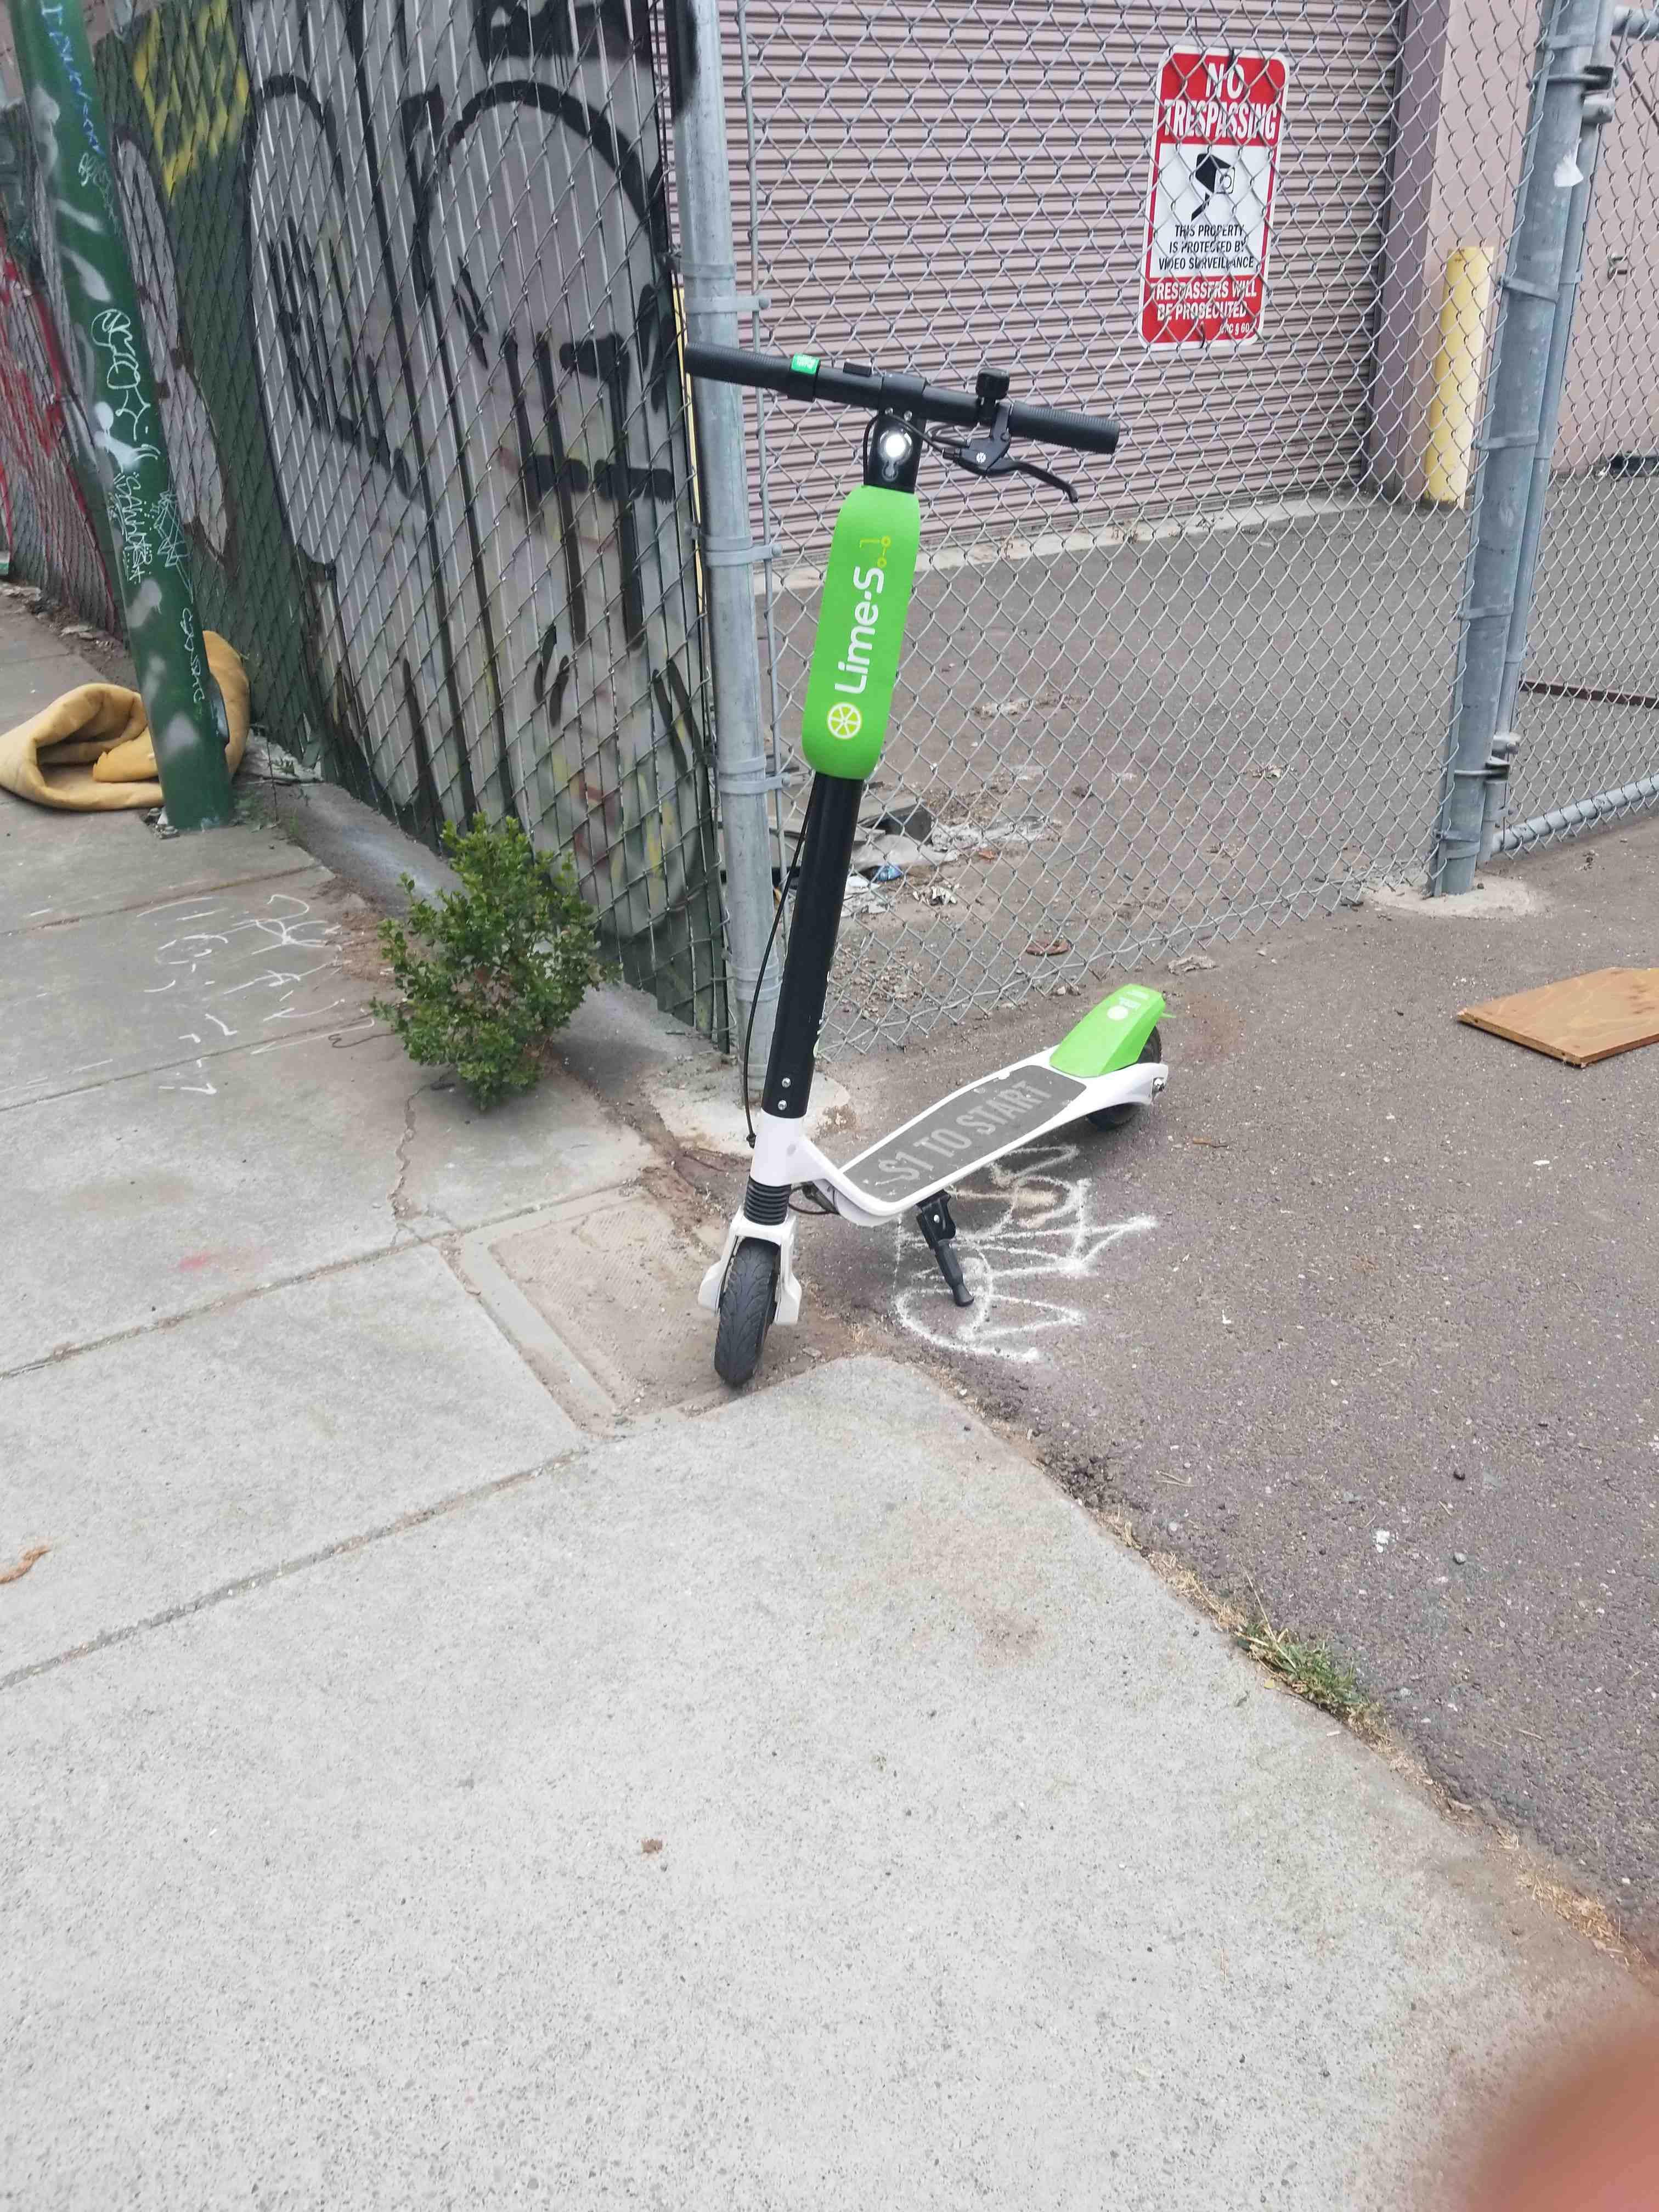scooter: (650, 279, 1180, 1501)
